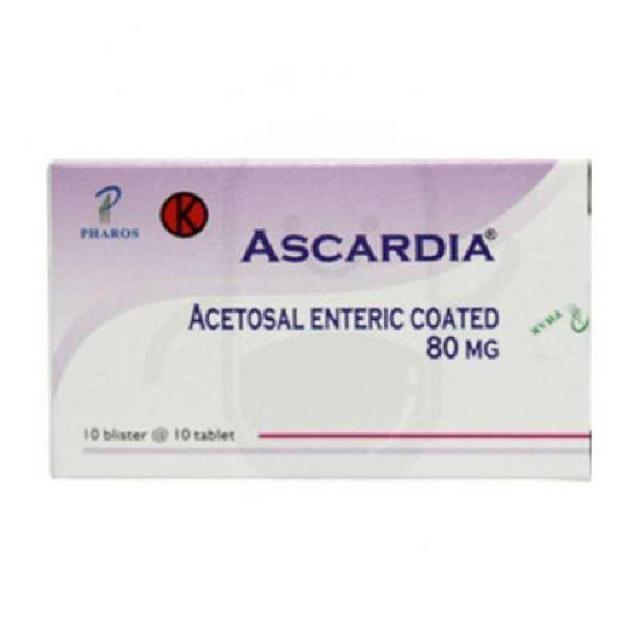drug-name: (240, 226, 498, 266)
